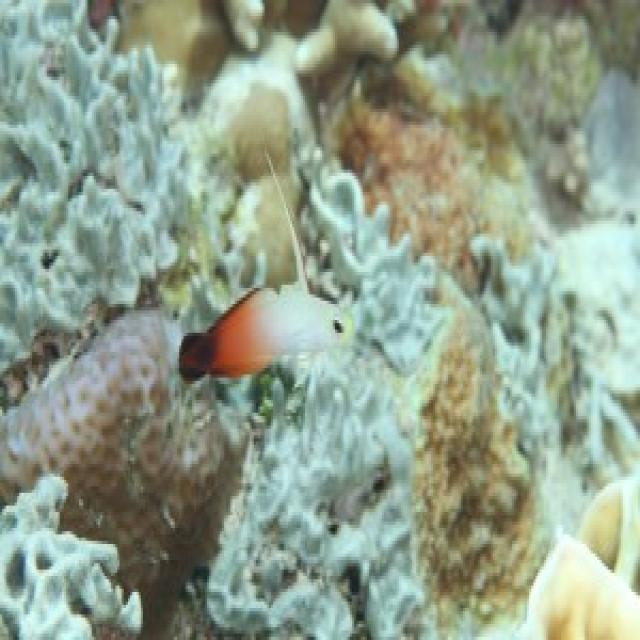Bleached: (4, 1, 166, 299), (252, 399, 419, 640), (492, 260, 640, 441), (309, 185, 435, 354), (1, 497, 114, 640), (540, 487, 640, 640)
Healthy: (7, 346, 228, 487), (441, 382, 516, 593), (355, 104, 507, 201)
